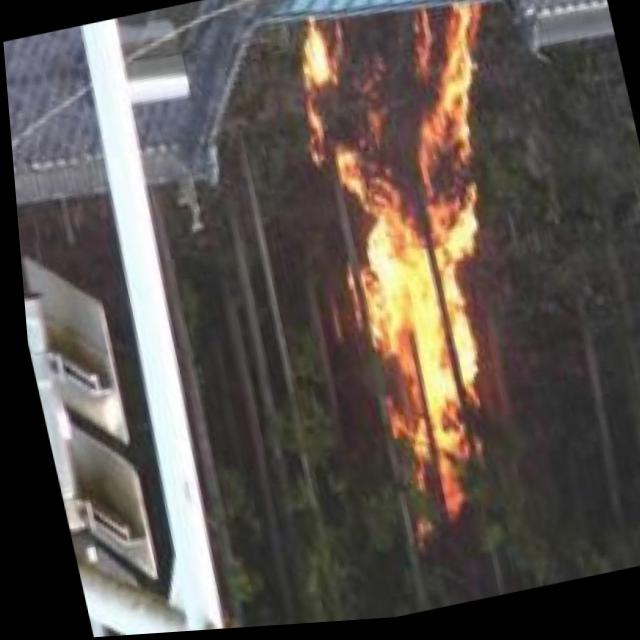Fire: (277, 0, 572, 471)
